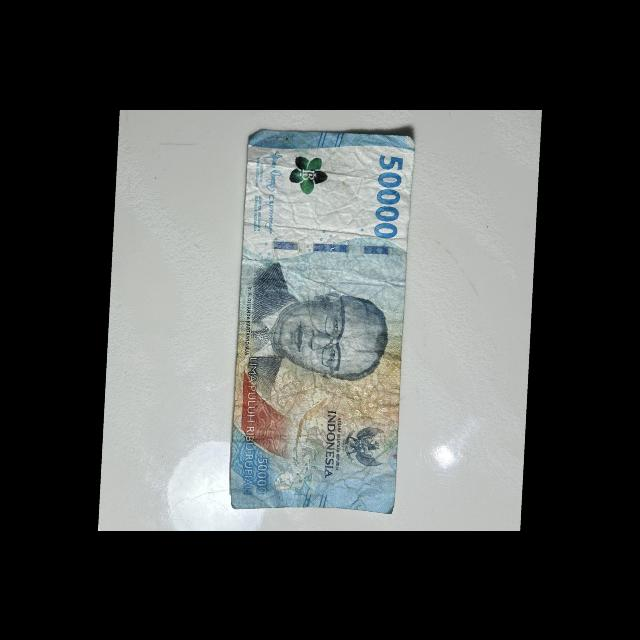Palsu-50k: (224, 124, 418, 520)
Tinta-Palsu-50k: (286, 153, 331, 197)
